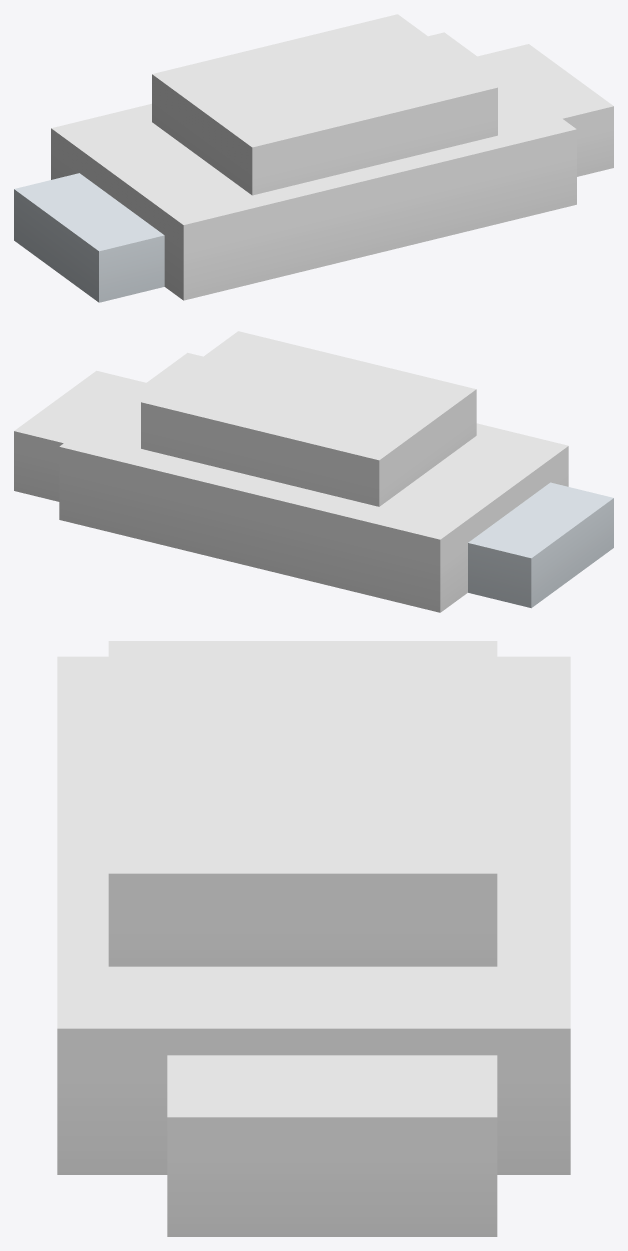
The model's file is cloud.glb.
The picture shows the model from 3 angles, top to bottom: view 1: azimuth 30°, elevation 25°; view 2: azimuth 150°, elevation 25°; view 3: azimuth 270°, elevation 25°; orthographic projection. The views are drawn at different scales.
Visible parts, largest first — view 1: cloud; view 2: cloud; view 3: cloud.
Boxes of the visible parts, x1,y1,x2,y2 form: cloud: (14,14,613,302); cloud: (14,331,613,612); cloud: (57,641,570,1236).
Size of the model in its own units: 16 by 3.6 by 7.
Materials: 1 (1 with a texture image).
